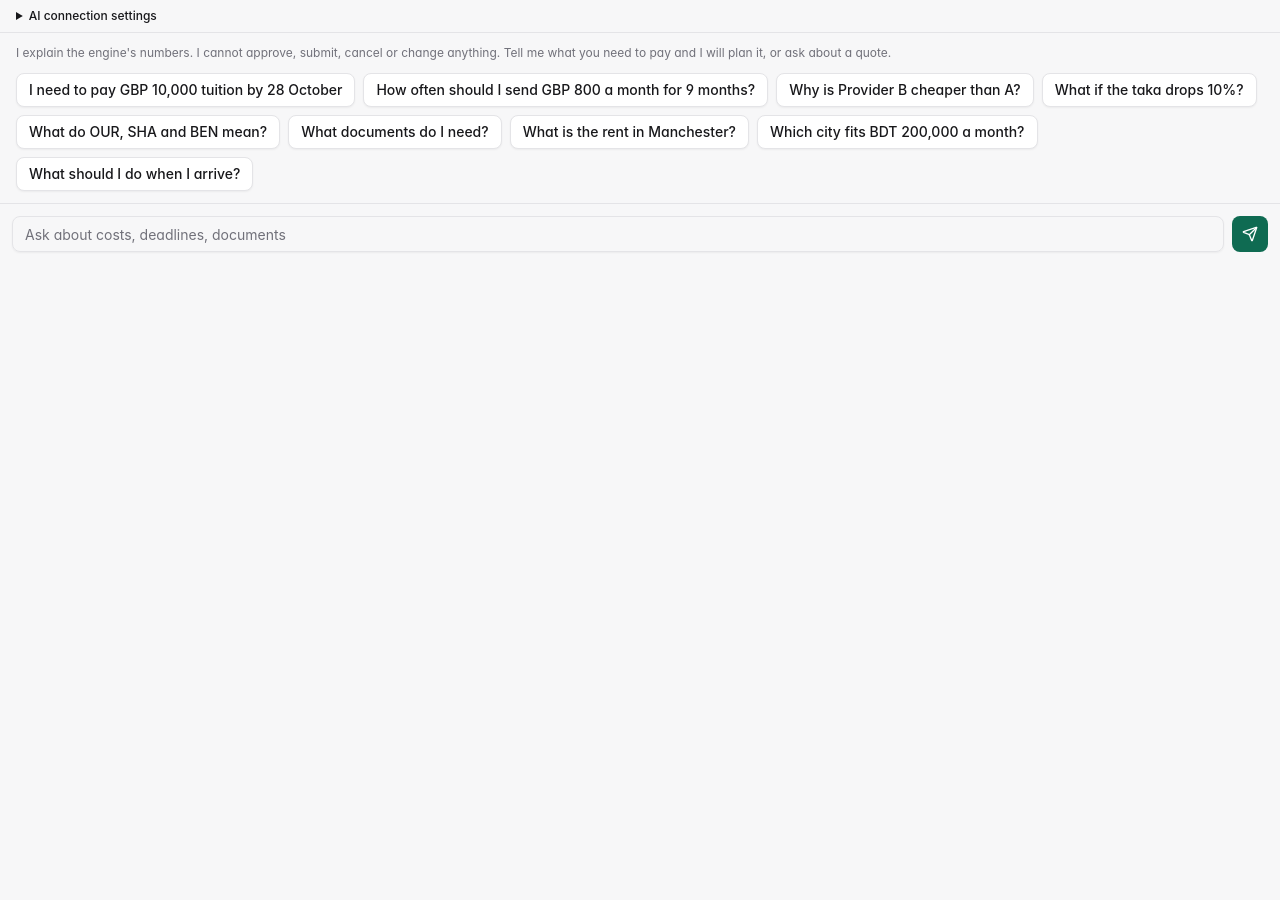
Test case: assistant chat › turns one sentence into a plan card and does not repeat the proposal as a second link
Click the button "I need to pay GBP 10,000 tuition by 28 October": (186, 90) [16,73,355,107]
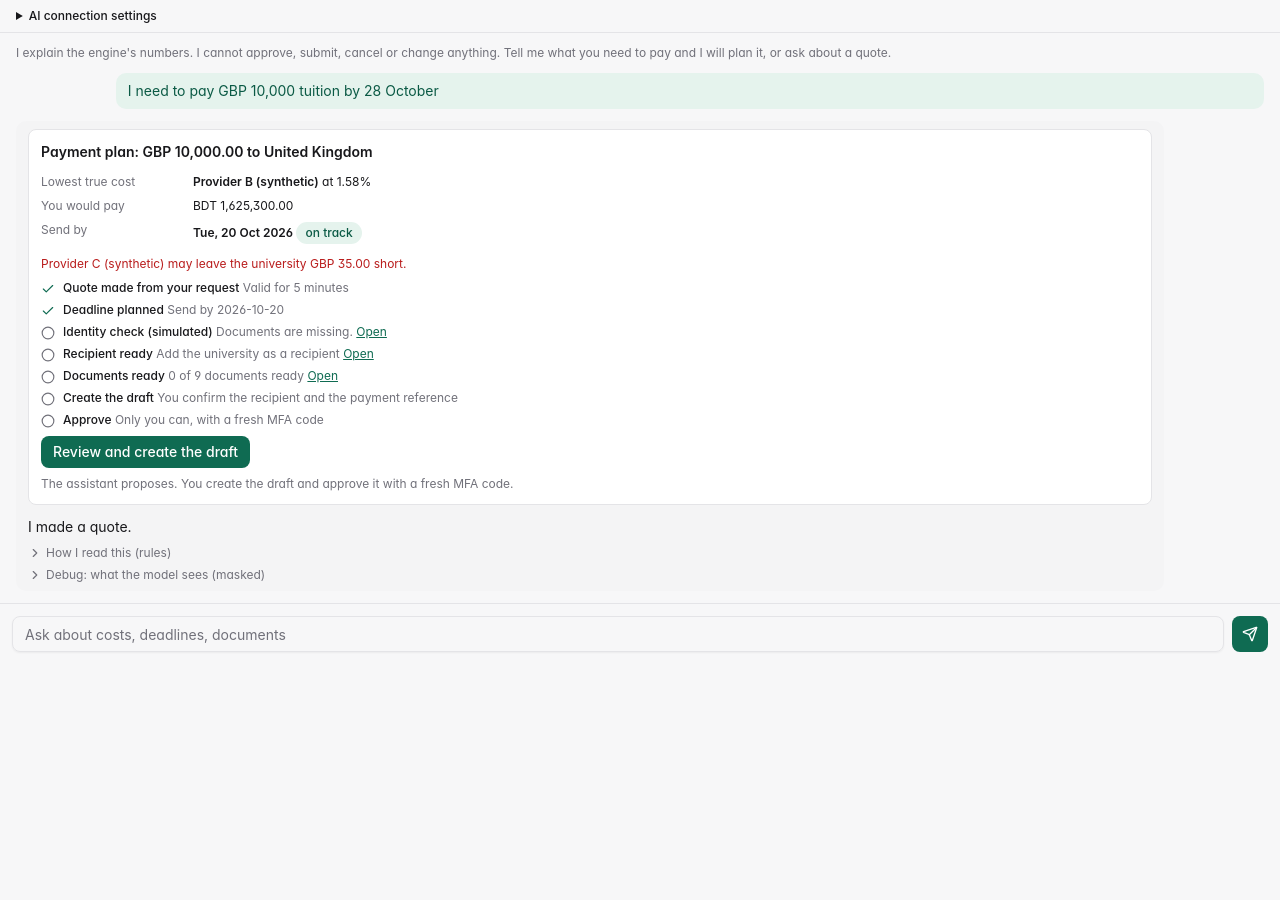
Result: the element "Payment plan" is shown at [28,129,1152,505]
